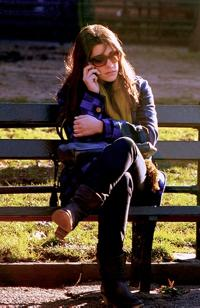person: (52, 24, 165, 308)
